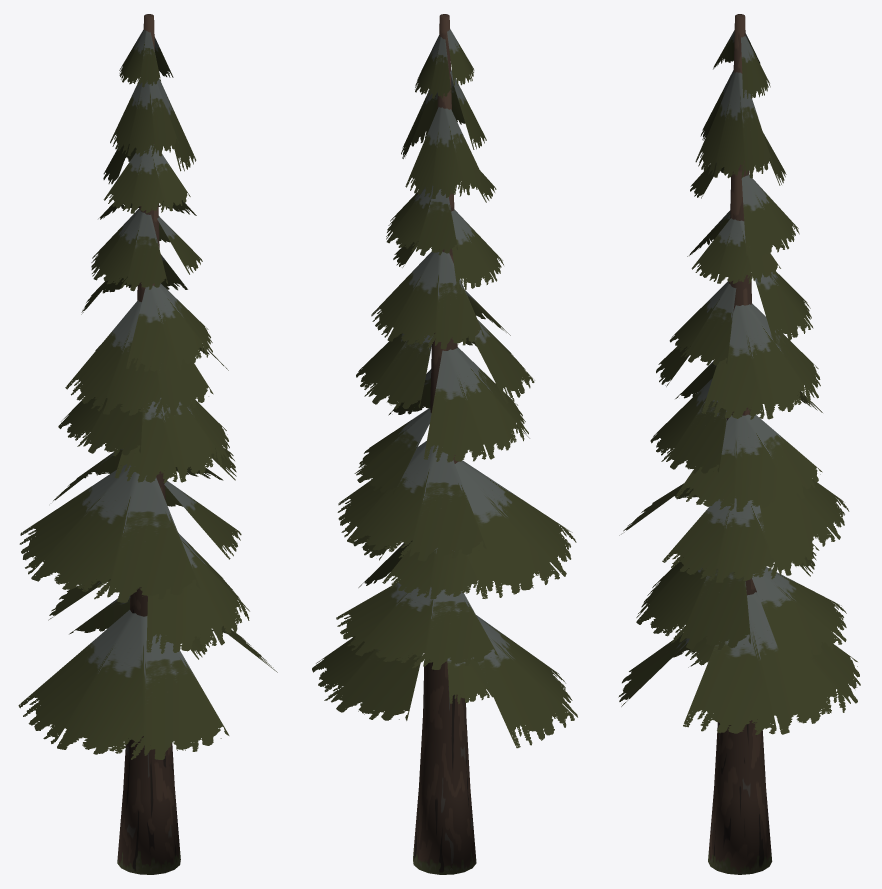
The model's file is pine_tree_test_02.glb.
3 renders of one model, left to right at view 1: azimuth 30°, elevation 25°; view 2: azimuth 150°, elevation 25°; view 3: azimuth 270°, elevation 25°, orthographic.
Parts seen in each view (by area): view 1: Cube.001, Cube.002-col; view 2: Cube.001, Cube.002-col; view 3: Cube.001, Cube.002-col.
Boxes of the visible parts, x1=… form: Cube.001: x1=18, y1=30, x2=277, y2=759; Cube.002-col: x1=117, y1=14, x2=180, y2=874; Cube.001: x1=312, y1=29, x2=577, y2=748; Cube.002-col: x1=413, y1=14, x2=476, y2=874; Cube.001: x1=618, y1=30, x2=860, y2=734; Cube.002-col: x1=708, y1=14, x2=772, y2=874.
Size of the model in its own units: 11.64 by 40 by 11.14.
2 materials, 2 textured.
